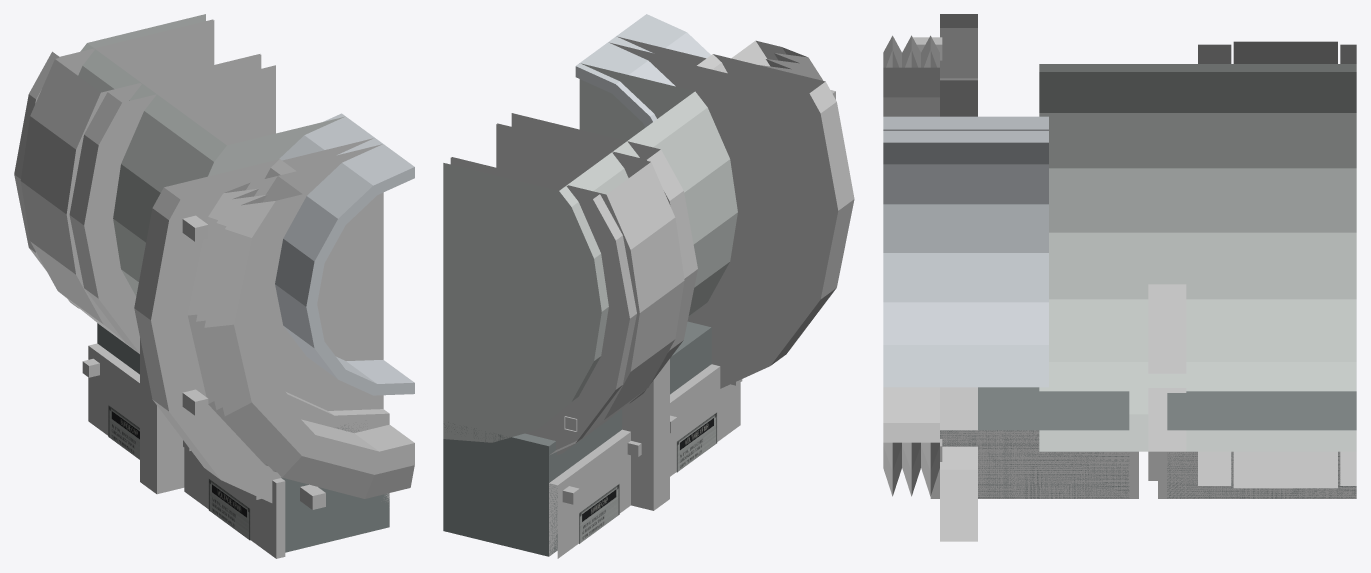
The model's file is cell_46.obj.
3 renders of one model, left to right at view 1: azimuth 30°, elevation 25°; view 2: azimuth 150°, elevation 25°; view 3: azimuth 270°, elevation 25°, orthographic. The views are drawn at different scales.
Bounding box in the file's own units: 0.66 × 1 × 1.
